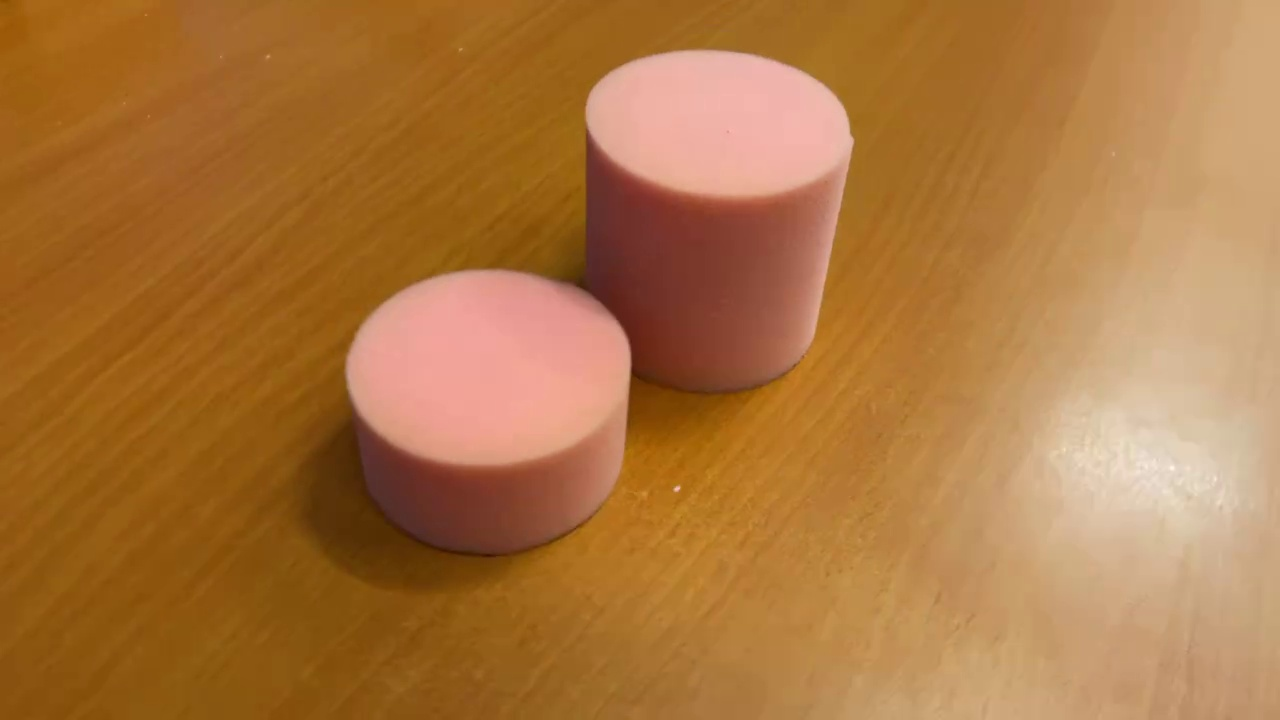Clyinder_short: (341, 252, 637, 568)
Cylinder: (569, 40, 860, 397)
